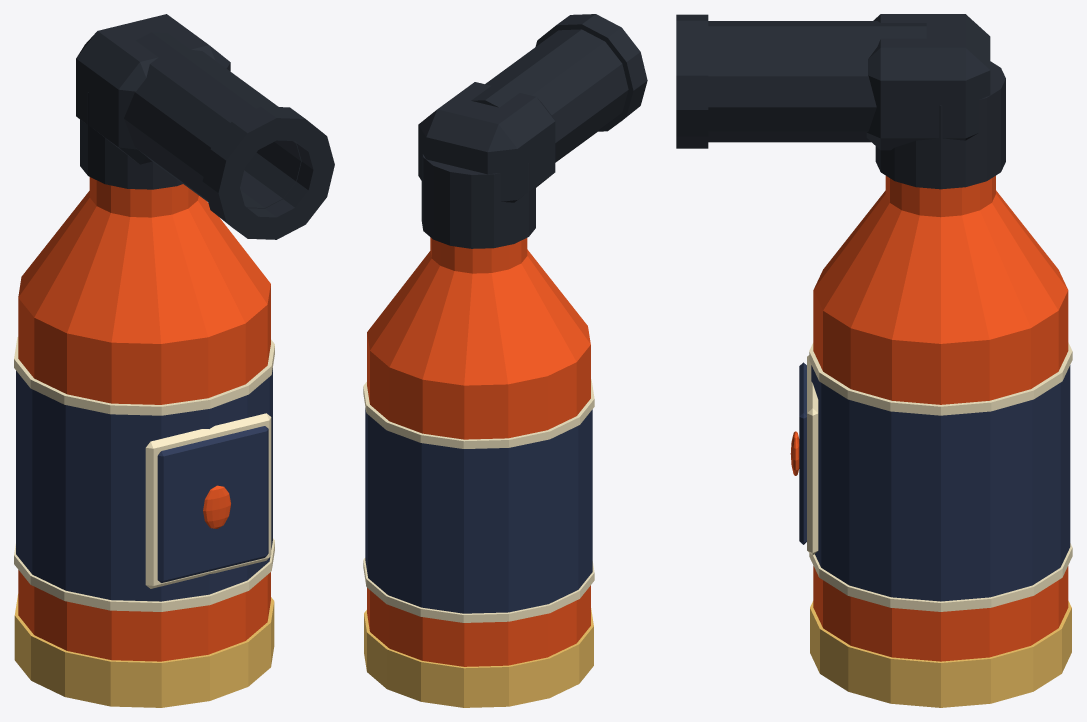
Rendered from HotSauce.glb.
The picture shows the model from 3 angles, left to right: view 1: azimuth 30°, elevation 25°; view 2: azimuth 150°, elevation 25°; view 3: azimuth 270°, elevation 25°; orthographic projection. The views are drawn at different scales.
Parts seen in each view (by area): view 1: HotSauce; view 2: HotSauce; view 3: HotSauce.
Part boxes in pixels (<box>): HotSauce: <box>14,14,334,707</box>; HotSauce: <box>363,14,647,707</box>; HotSauce: <box>676,14,1072,707</box>.
Size of the model in its own units: 0.3777 by 1 by 0.568.
